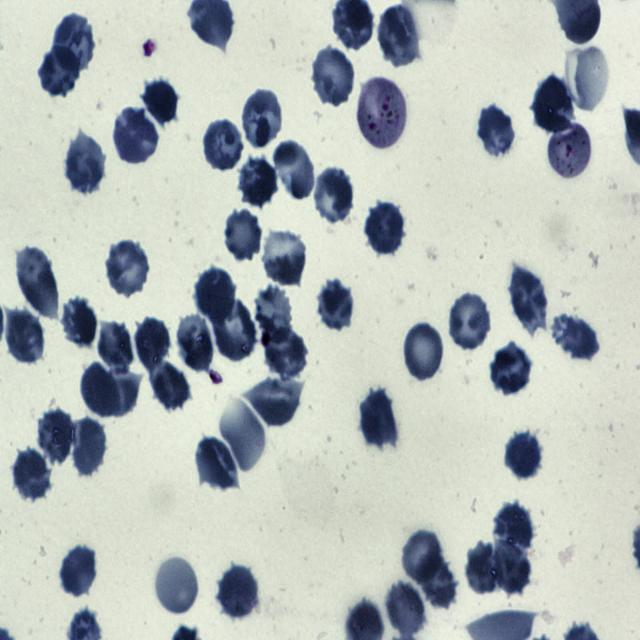red blood cell: (218, 396, 266, 469), (15, 246, 58, 320), (212, 298, 258, 362), (246, 374, 301, 427), (507, 265, 548, 335), (154, 555, 200, 616), (447, 292, 493, 352), (104, 238, 150, 298), (240, 88, 284, 150), (88, 368, 142, 418), (310, 46, 354, 107), (403, 320, 445, 383), (262, 326, 310, 381), (378, 5, 420, 67), (253, 283, 293, 348), (81, 359, 122, 422), (275, 142, 316, 205), (114, 110, 160, 166), (262, 228, 308, 284), (400, 528, 444, 586), (532, 76, 575, 135), (52, 14, 95, 72), (65, 132, 105, 194), (416, 551, 457, 610), (361, 386, 398, 451), (385, 580, 426, 638), (195, 438, 239, 492), (314, 167, 354, 226), (194, 267, 236, 323), (493, 502, 535, 558), (574, 45, 609, 112), (218, 564, 260, 619), (36, 408, 74, 468), (553, 314, 600, 362), (203, 118, 244, 173), (175, 313, 213, 372), (223, 206, 263, 262), (492, 341, 532, 396), (492, 541, 532, 596), (477, 104, 517, 158), (150, 358, 190, 412), (38, 46, 80, 97), (366, 202, 406, 255), (6, 310, 45, 364), (12, 448, 51, 502), (135, 316, 171, 374), (317, 280, 356, 333), (60, 544, 98, 598), (60, 298, 100, 349), (72, 418, 106, 476), (239, 157, 278, 207), (505, 430, 543, 481), (98, 324, 138, 371), (142, 77, 179, 127), (466, 541, 496, 596)
ring: (358, 78, 406, 150), (547, 122, 592, 181)
